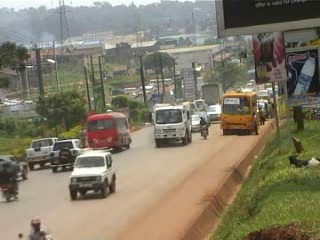Car: (66, 149, 118, 200), (49, 136, 90, 173), (193, 106, 211, 128), (189, 112, 203, 134)
Motorcycle: (0, 157, 21, 202), (16, 216, 54, 239), (197, 115, 209, 139)
